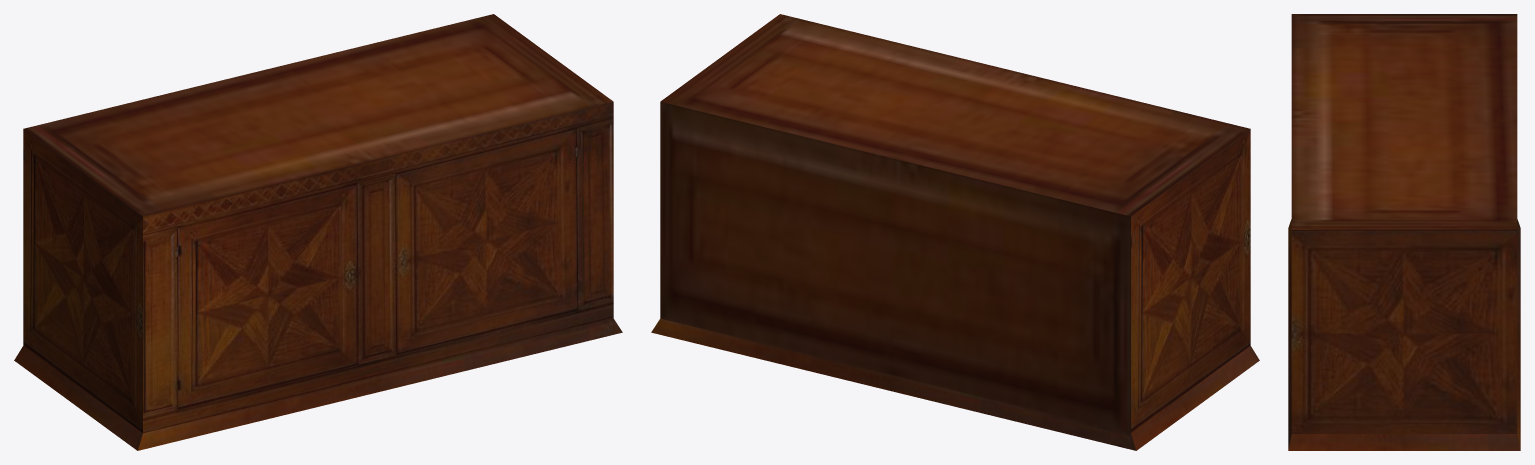
Rendered from bedside_table_1.fbx.
The picture shows the model from 3 angles, left to right: view 1: azimuth 30°, elevation 25°; view 2: azimuth 150°, elevation 25°; view 3: azimuth 270°, elevation 25°; orthographic projection. The views are drawn at different scales.
Parts seen in each view (by area): view 1: Cube; view 2: Cube; view 3: Cube.
Part boxes in pixels (box(x1,y1,x2,y2)): Cube: box(14, 14, 622, 450); Cube: box(651, 14, 1259, 450); Cube: box(1288, 14, 1520, 450).
Size of the model in its own units: 195 by 88.98 by 86.12.
